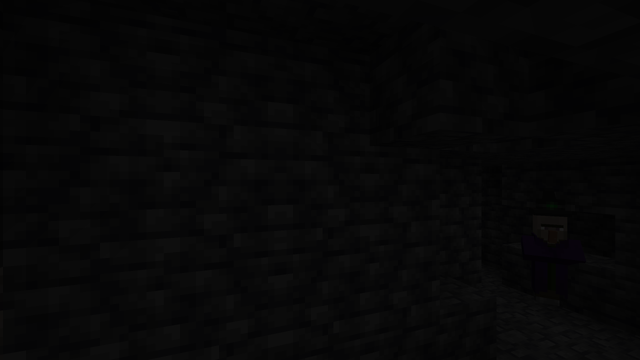sorcieres: (524, 209, 574, 311)
